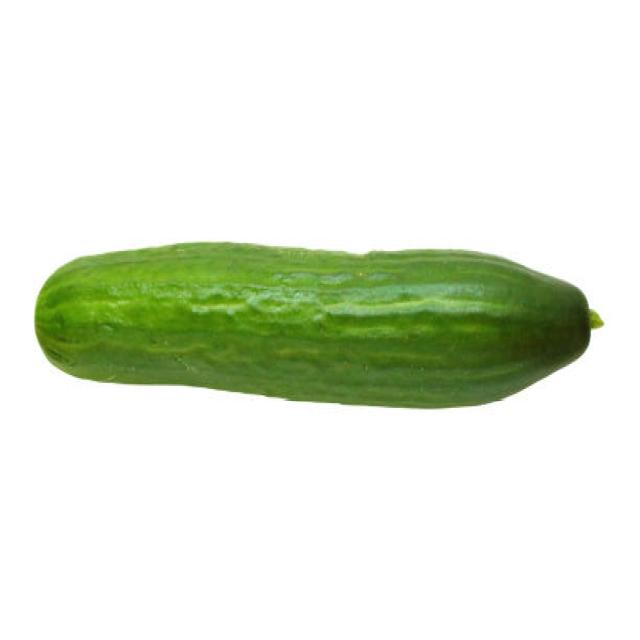cucumber: (33, 240, 590, 412)
